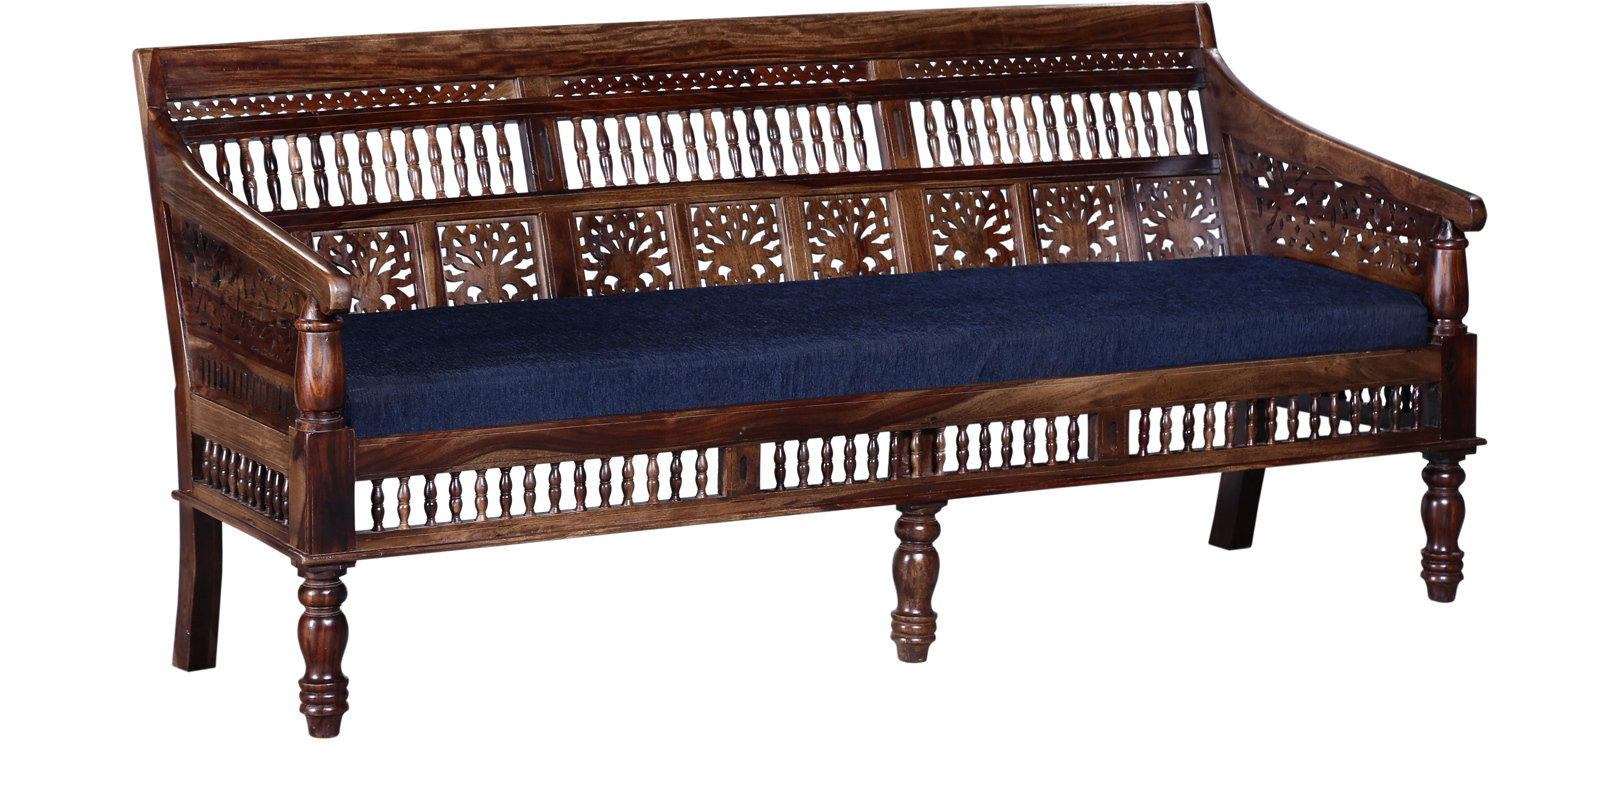Maurya Handcrafted Three Seater Sofa in Provincial Teak Finish by Mudramark: (130, 1, 1487, 737)
